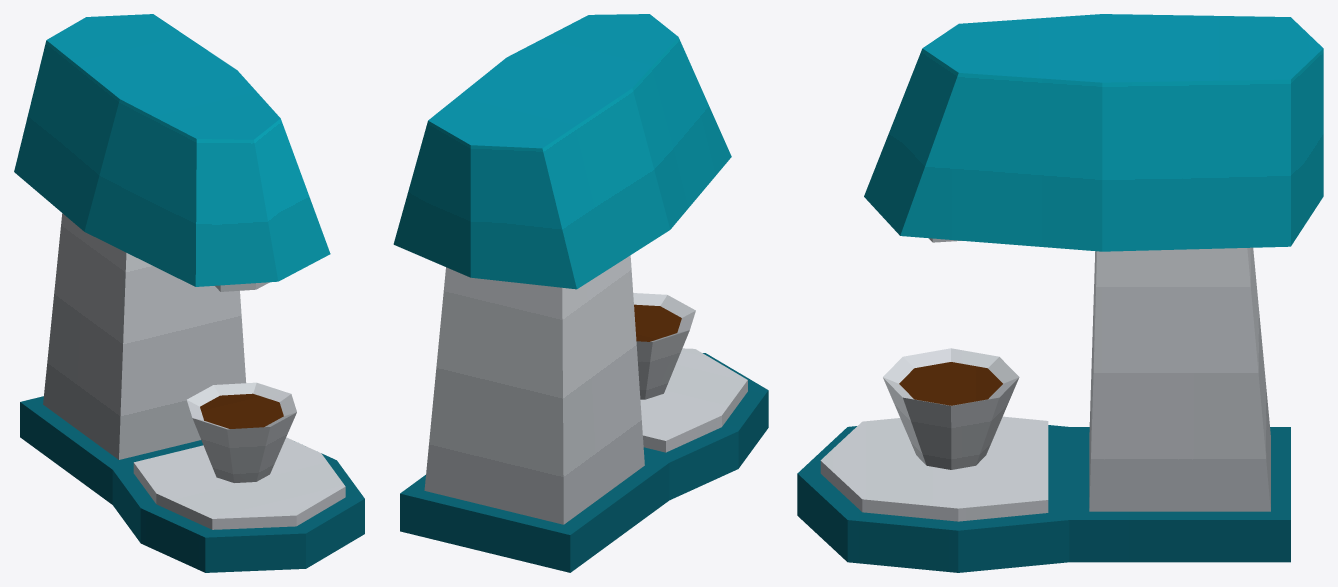
The model's file is CoffeeMachine.fbx.
The picture shows the model from 3 angles, left to right: view 1: azimuth 30°, elevation 25°; view 2: azimuth 150°, elevation 25°; view 3: azimuth 270°, elevation 25°; orthographic projection. The views are drawn at different scales.
Visible parts, largest first — view 1: CoffeeMachine_v1; view 2: CoffeeMachine_v1; view 3: CoffeeMachine_v1.
Boxes of the visible parts, left/top/right/bottom form: CoffeeMachine_v1: left=14, top=14, right=364, bottom=572; CoffeeMachine_v1: left=393, top=14, right=768, bottom=572; CoffeeMachine_v1: left=797, top=14, right=1323, bottom=572.
Bounding box in the file's own units: 31.32 × 59.65 × 60.84.
